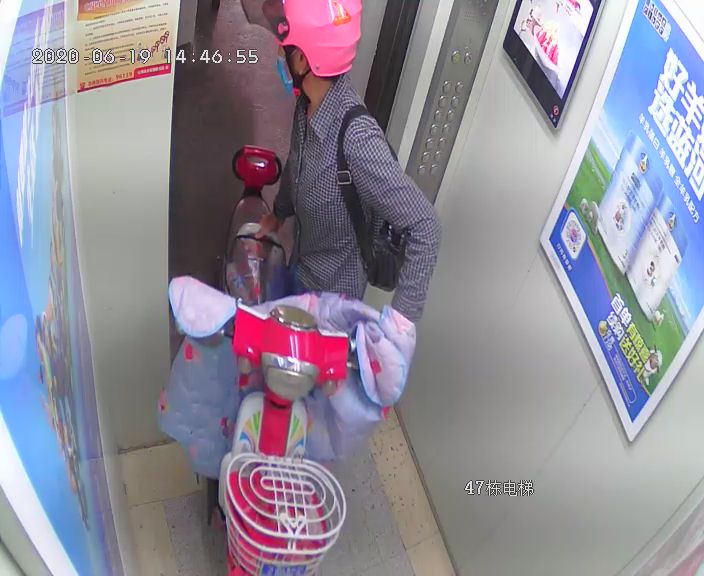Electric-bicycle: (177, 143, 414, 576)
